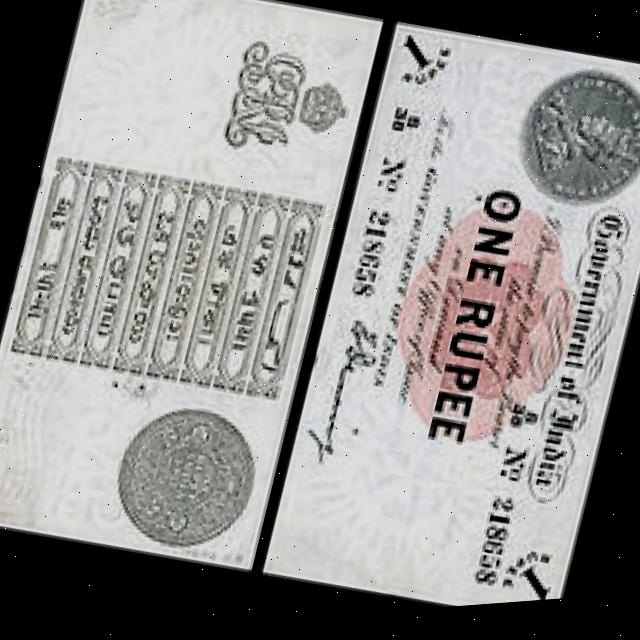banknote: (258, 7, 640, 625), (0, 0, 388, 591)
